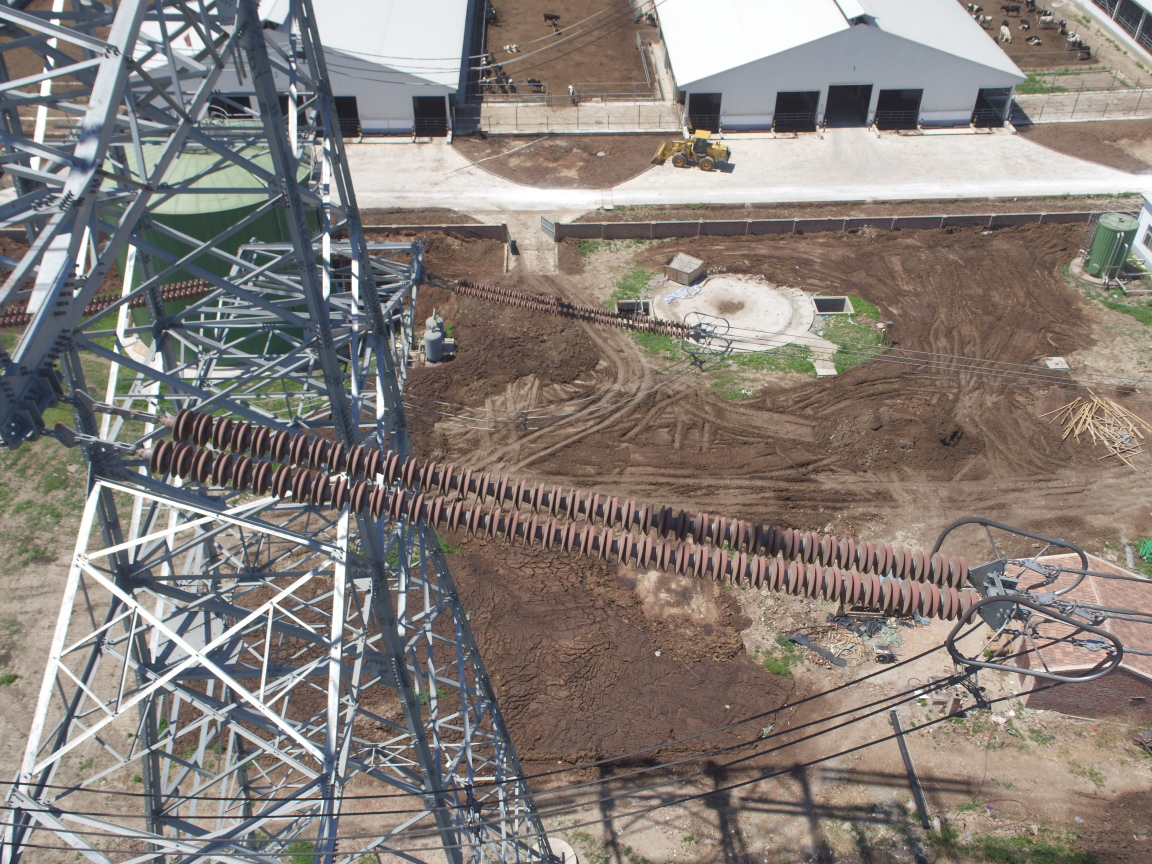insulator: (117, 404, 991, 630)
